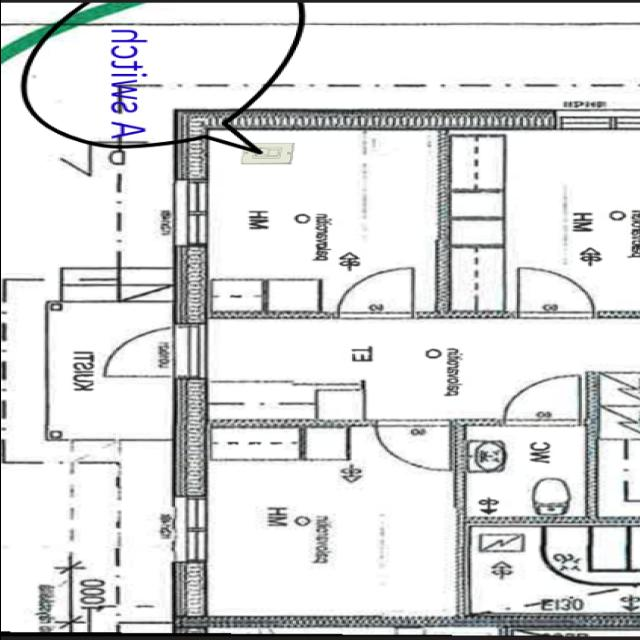switch: (235, 138, 299, 166)
wall: (163, 103, 564, 134), (166, 376, 214, 502), (165, 239, 215, 329), (163, 557, 219, 631), (164, 106, 212, 186)
